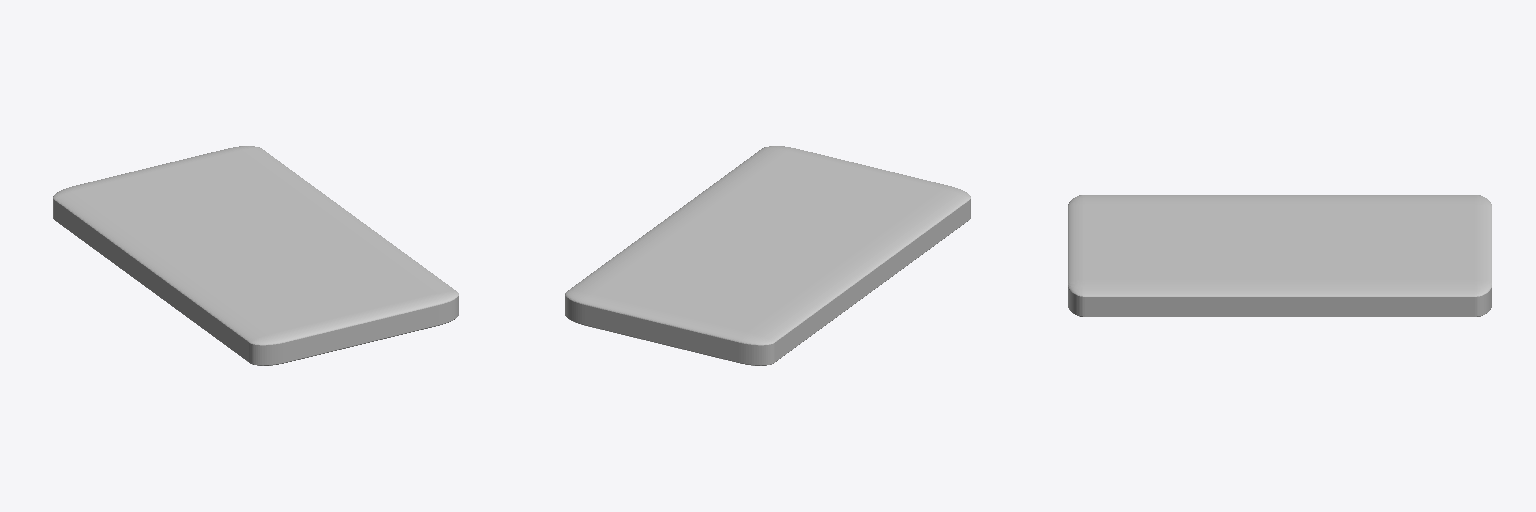
Rendered from Microcontroller.obj.
The picture shows the model from 3 angles: view 1: azimuth 30°, elevation 25°; view 2: azimuth 150°, elevation 25°; view 3: azimuth 270°, elevation 25°; orthographic projection.
Visible parts, largest first — view 1: Cube.002; view 2: Cube.002; view 3: Cube.002.
Boxes of the visible parts, x1,y1,x2,y2 form: Cube.002: [53, 146, 458, 365]; Cube.002: [565, 146, 970, 365]; Cube.002: [1068, 195, 1491, 316].
Size of the model in its own units: 6.83 by 0.8616 by 12.06.